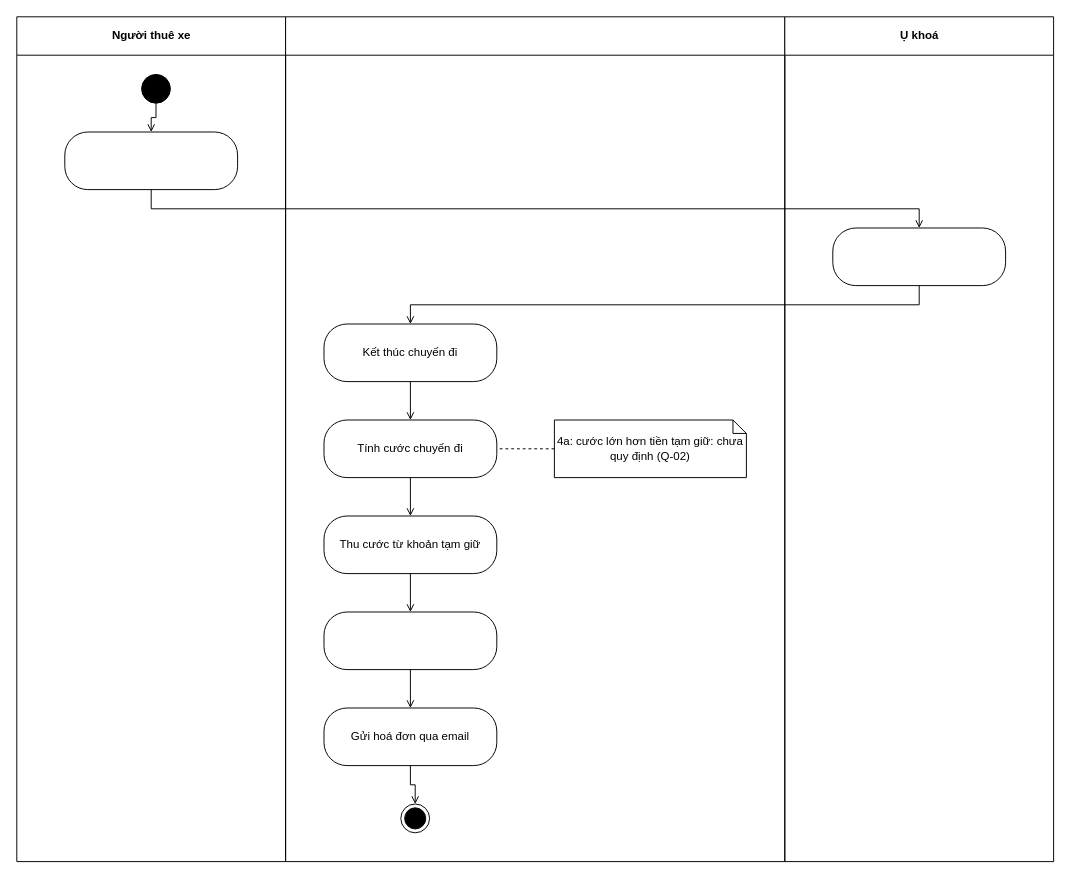
Some shapes in this 1070 by 878 pixel diagram are drawn without their labels. Here are the shapes that lost their labels. From the top down, the box of each, then its label:
(64, 131, 238, 190): Đẩy xe vào ụ khoá trống
(832, 227, 1006, 286): Nhận diện xe, báo đã nhận xe
(285, 16, 785, 862): Hệ thống
(323, 611, 497, 670): Hoàn phần tạm giữ còn dư
